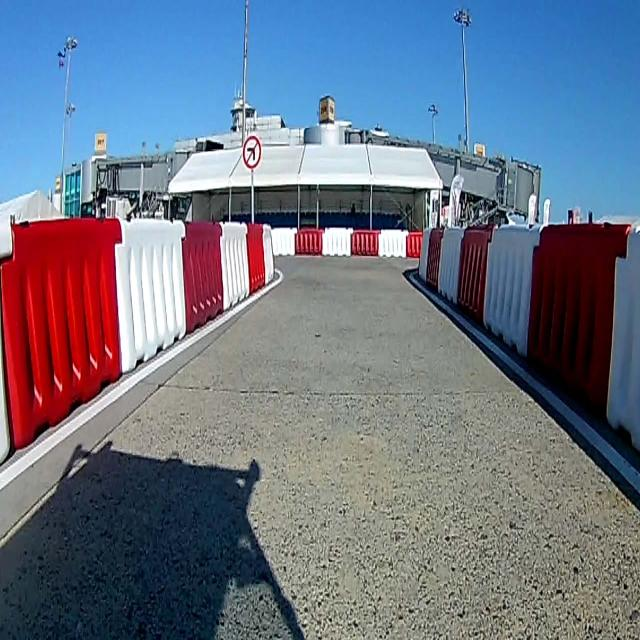soladonulmez: (242, 135, 261, 170)
